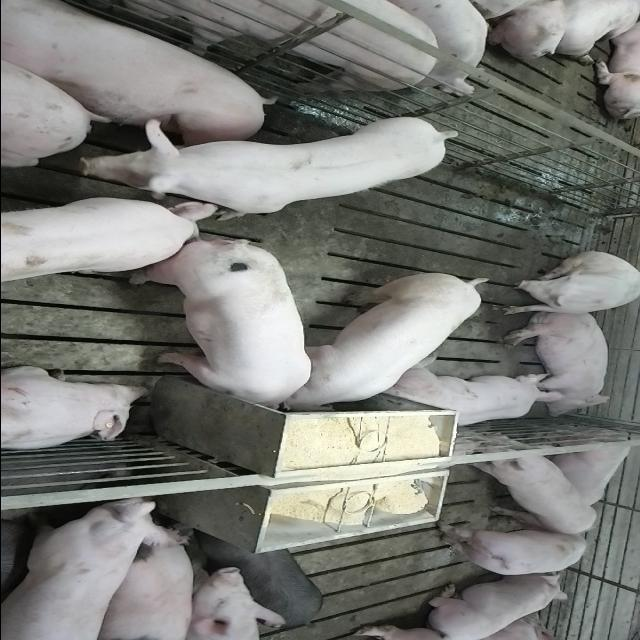Feeding: (128, 243, 312, 420), (281, 268, 497, 410)
Lateral_lying: (500, 309, 614, 418)
Sitting: (498, 251, 638, 317)
Standing: (44, 113, 454, 219), (0, 0, 445, 95), (0, 497, 165, 638), (2, 195, 218, 288), (467, 439, 593, 535), (90, 523, 194, 637), (207, 538, 323, 628), (424, 525, 594, 579)
Sternal_lying: (0, 365, 151, 453), (378, 361, 562, 432), (424, 574, 574, 638), (542, 426, 636, 511)
